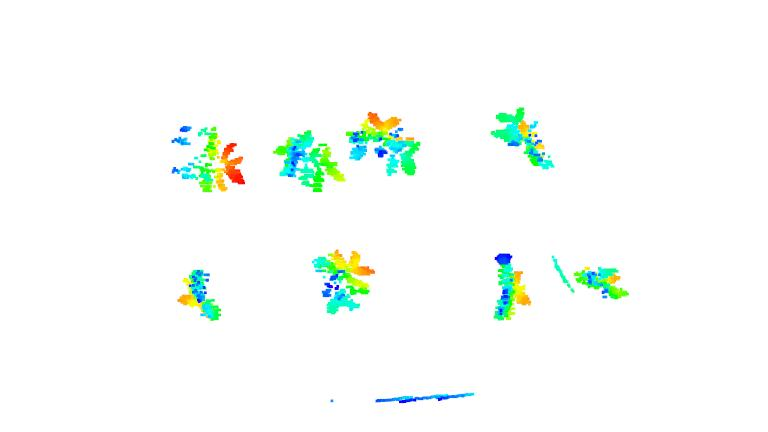chickpea: (168, 121, 248, 196), (345, 109, 423, 178), (273, 127, 346, 194), (310, 247, 379, 317), (491, 106, 556, 172), (489, 250, 534, 323), (174, 267, 224, 324), (575, 260, 630, 305)
